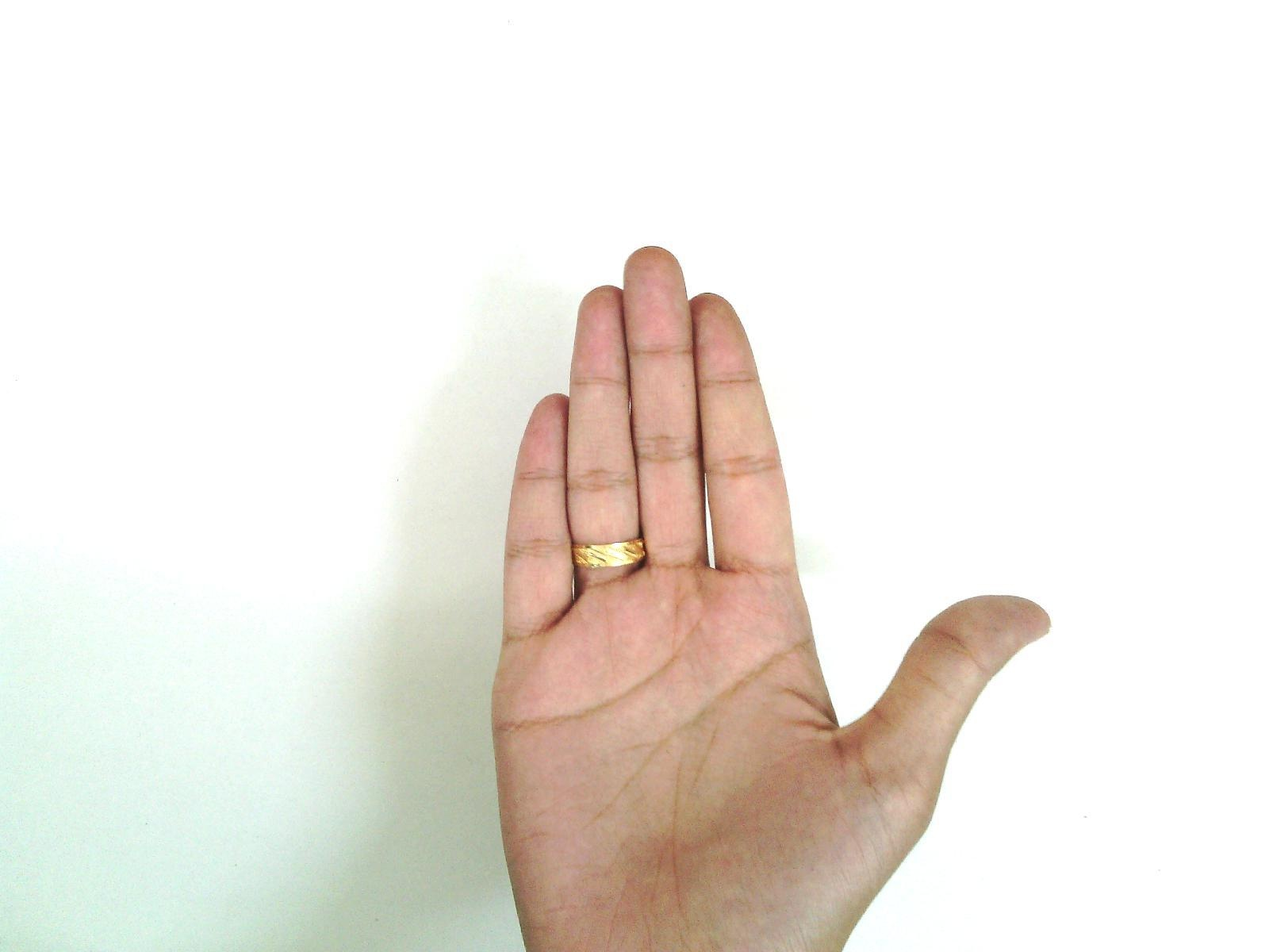open_palm: (487, 244, 1053, 951)
